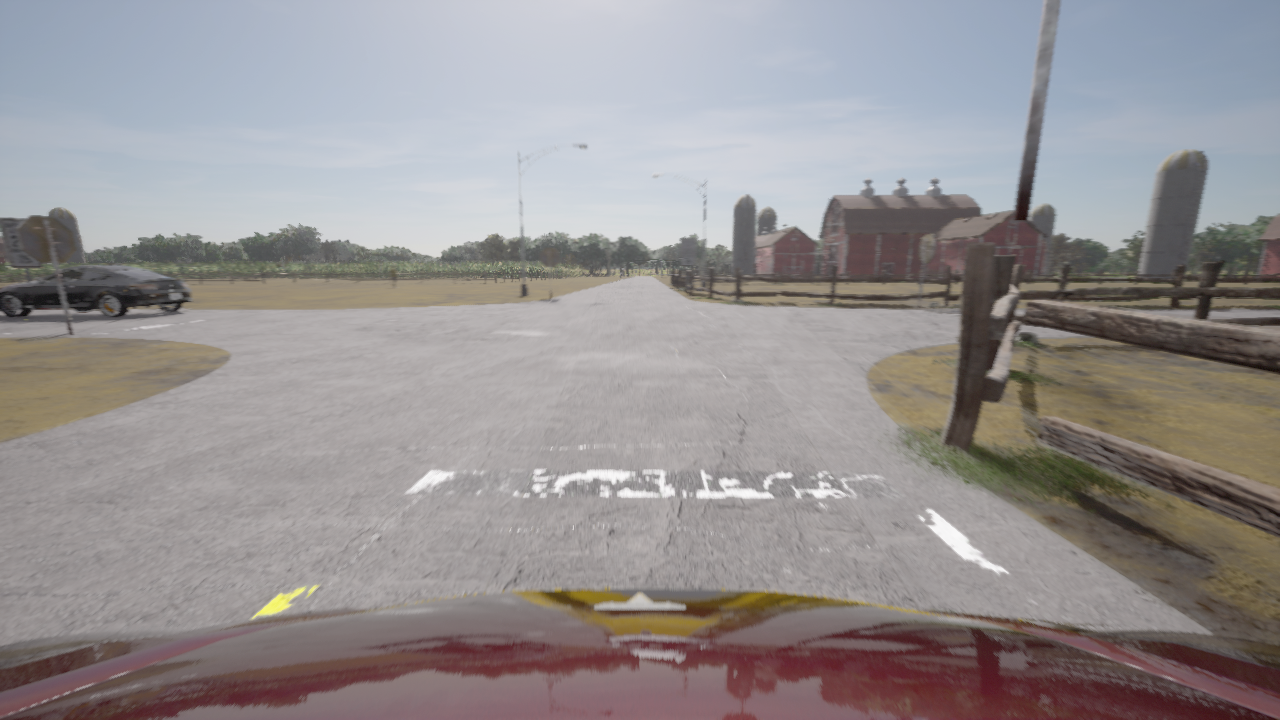cyclist: (0, 588, 1279, 719), (0, 265, 192, 317)
pedestrian: (390, 265, 397, 287)
